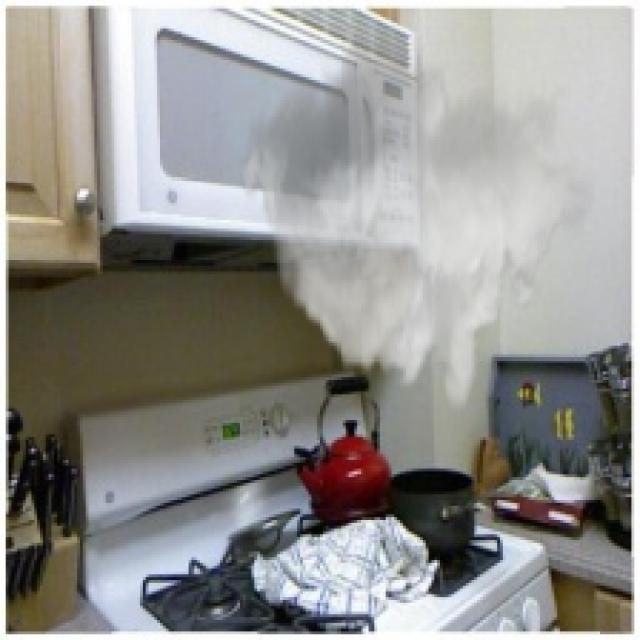Smoke: (237, 26, 594, 417)
